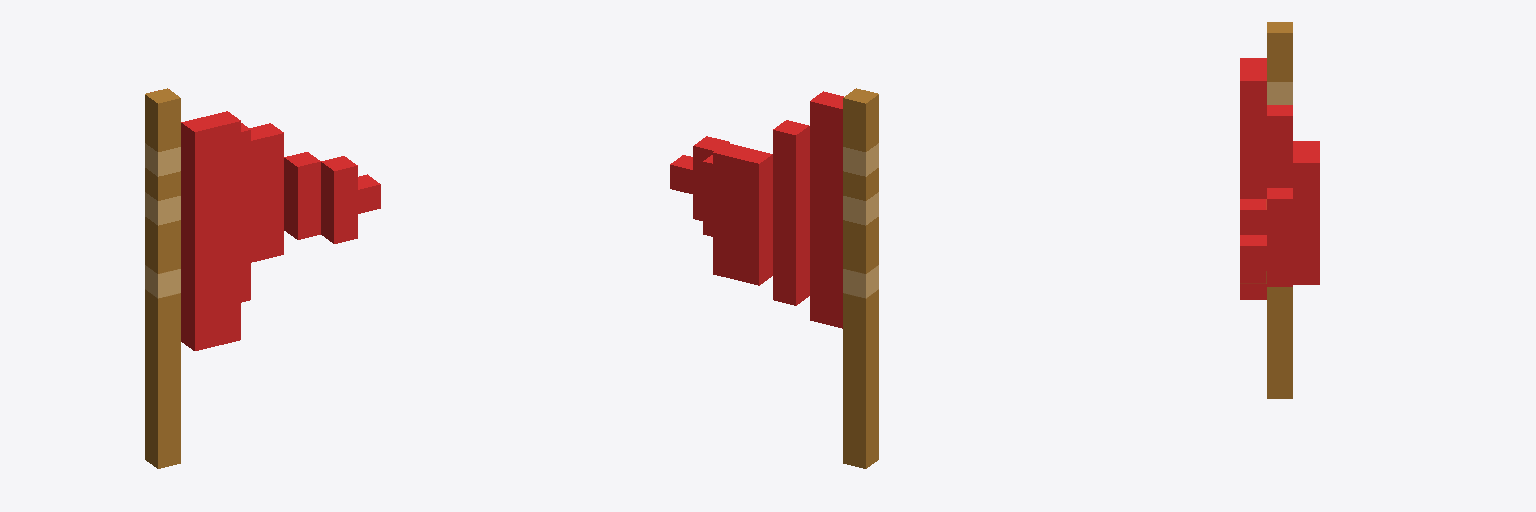
3 renders of one model, left to right at view 1: azimuth 30°, elevation 25°; view 2: azimuth 150°, elevation 25°; view 3: azimuth 270°, elevation 25°, orthographic.
Visible parts, largest first — view 1: Flag_Small_Red_Medieval_Assets-32.001; view 2: Flag_Small_Red_Medieval_Assets-32.001; view 3: Flag_Small_Red_Medieval_Assets-32.001.
Boxes of the visible parts, <box> form: Flag_Small_Red_Medieval_Assets-32.001: <box>145,88,380,468</box>; Flag_Small_Red_Medieval_Assets-32.001: <box>670,88,878,468</box>; Flag_Small_Red_Medieval_Assets-32.001: <box>1240,22,1319,398</box>.
Size of the model in its own units: 0.9 by 1.5 by 0.3.
Materials: 1 (1 with a texture image).